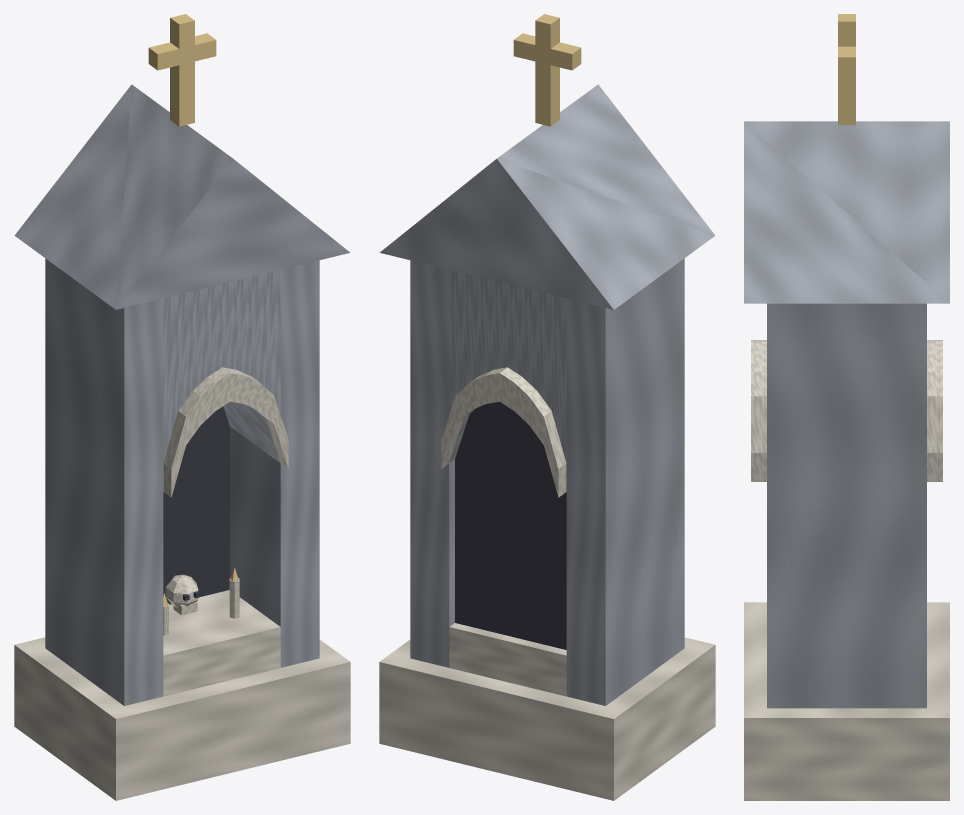
File: vampire-crypt-and-gothic-cathedral-wayside-shrine-6a437287__23055.glb
3 views of the same model, side by side, from view 1: azimuth 30°, elevation 25°; view 2: azimuth 150°, elevation 25°; view 3: azimuth 270°, elevation 25° (orthographic).
Visible parts, largest first — view 1: wayside-shrine; view 2: wayside-shrine; view 3: wayside-shrine.
Part boxes in pixels (box(x1,y1,x2,y2)): wayside-shrine: box(14, 14, 350, 800); wayside-shrine: box(379, 14, 715, 800); wayside-shrine: box(744, 14, 949, 800).
Bounding box in the file's own units: 1.2 × 3.5 × 0.9001.
4 materials, 2 textured.
